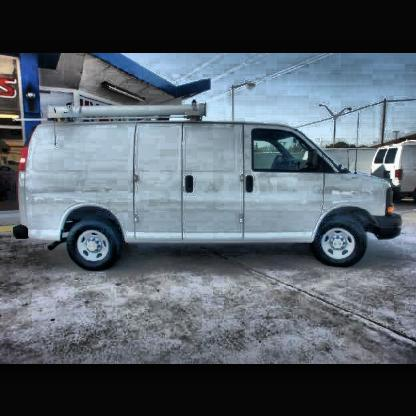Chevrolet Express Cargo Van 2007: (14, 103, 404, 269)
